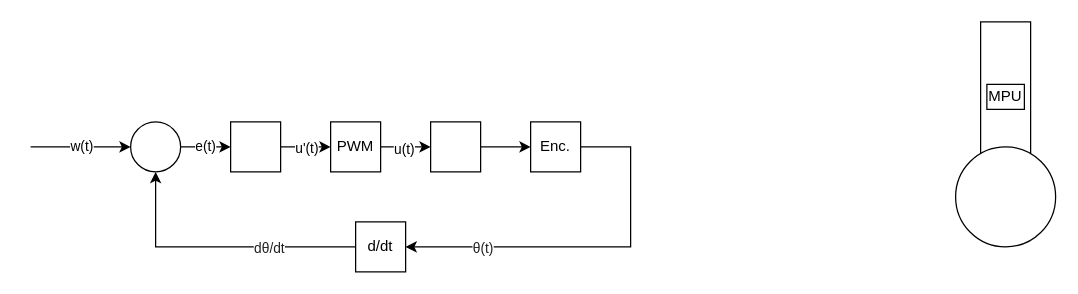
The diagram is 1078 pixels wide and 294 high, and some of its shapes have lost their labels. Each missing label, with the centre of its shape:
"Moteur" goes at (x=455, y=146).
"PID" goes at (x=255, y=146).
